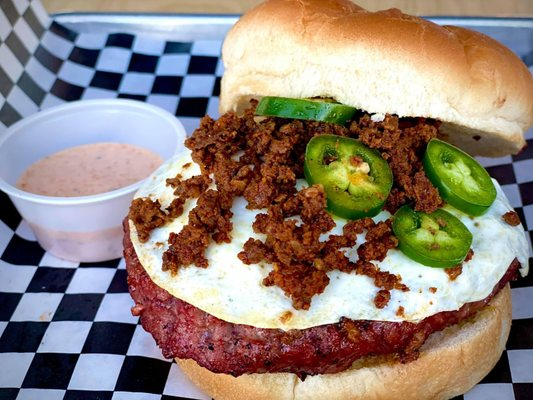soup: (121, 16, 525, 400)
sushi: (1, 99, 187, 265)
